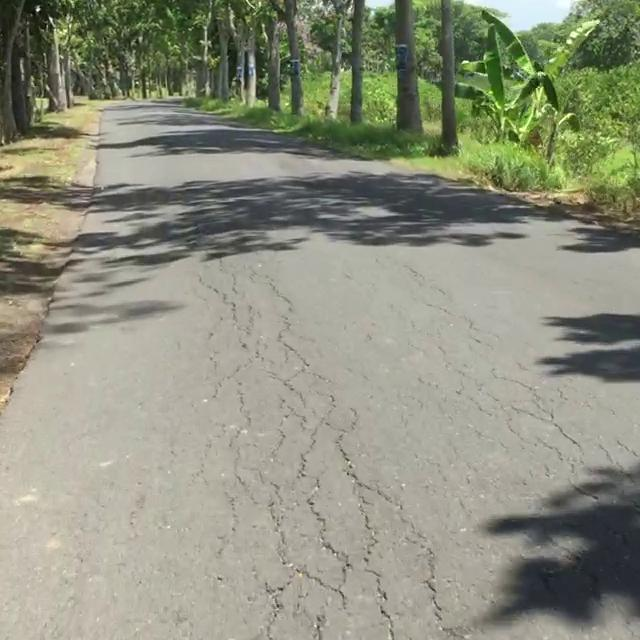retak_kulit_buaya: (182, 265, 402, 640), (410, 253, 561, 474)
